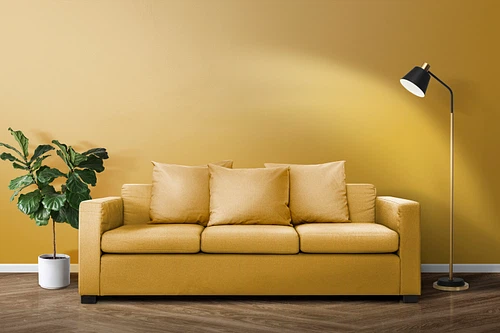floor lamp: (397, 59, 471, 293)
large plant: (0, 125, 109, 290)
sofa: (77, 160, 425, 304)
